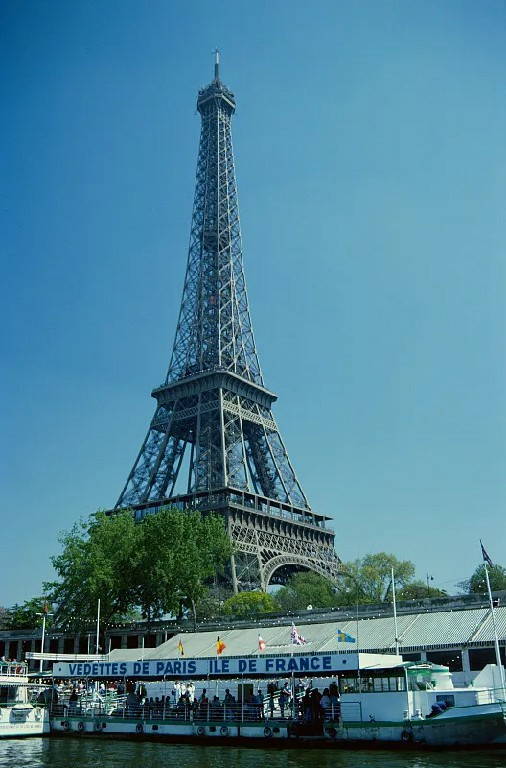Eiffel: (55, 52, 364, 617)
